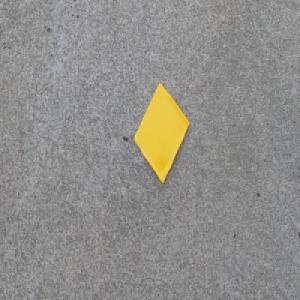PlasticPart: (133, 81, 189, 184)
